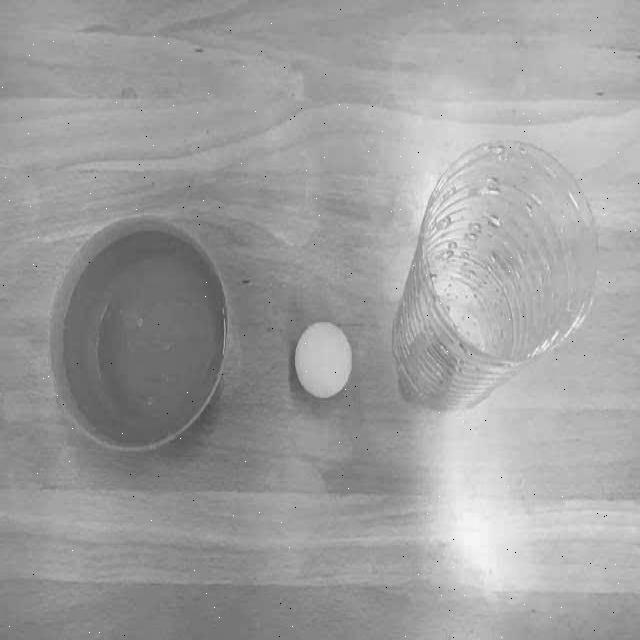ping-pong-ball: (289, 312, 353, 403)
